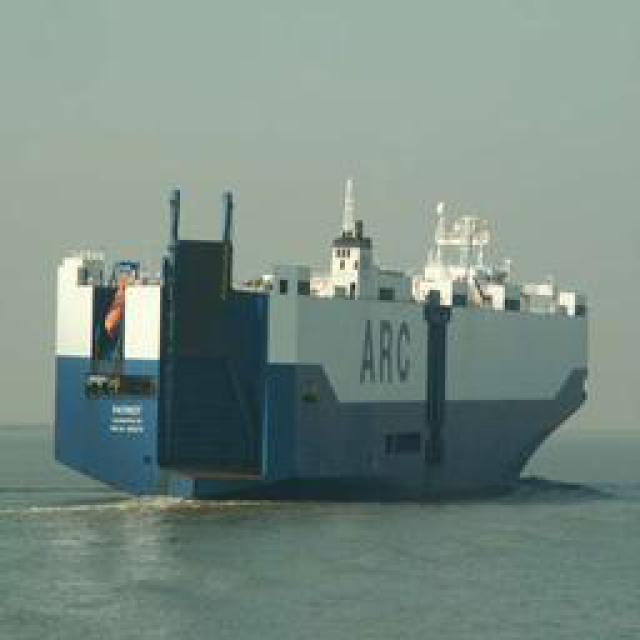Ship: (43, 165, 594, 513)
